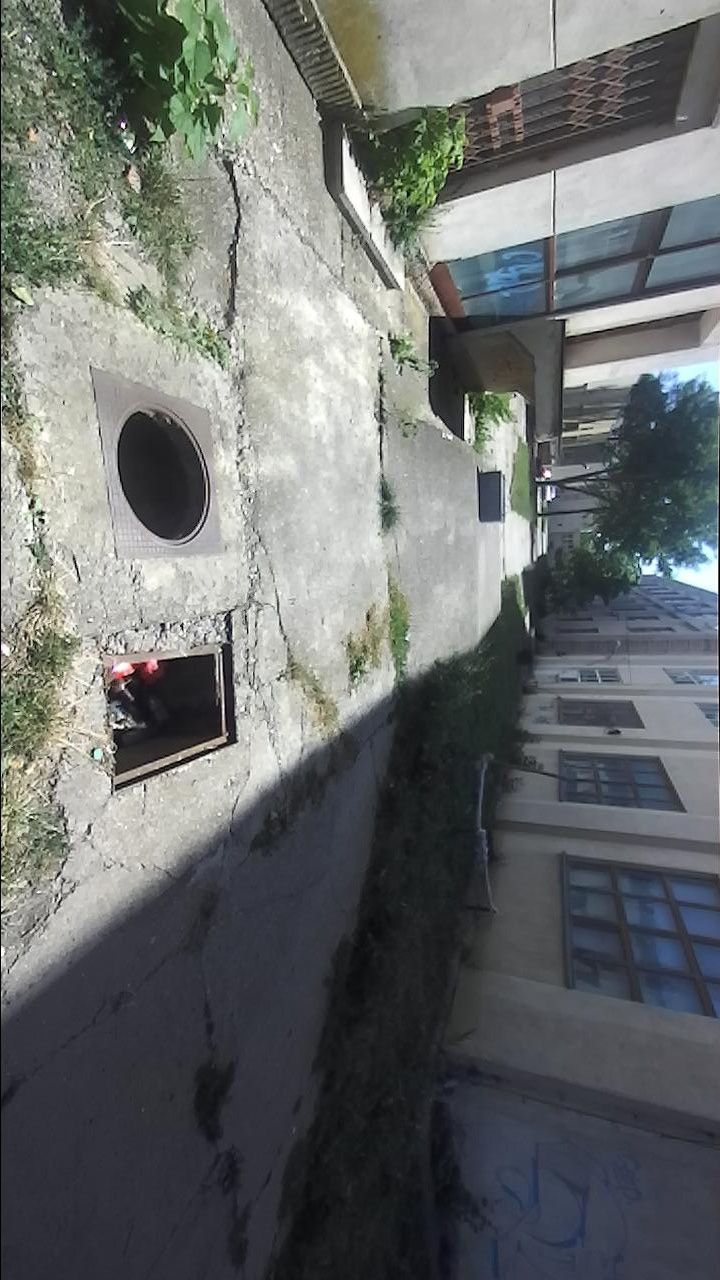drain: (95, 636, 240, 800), (112, 395, 216, 548)
